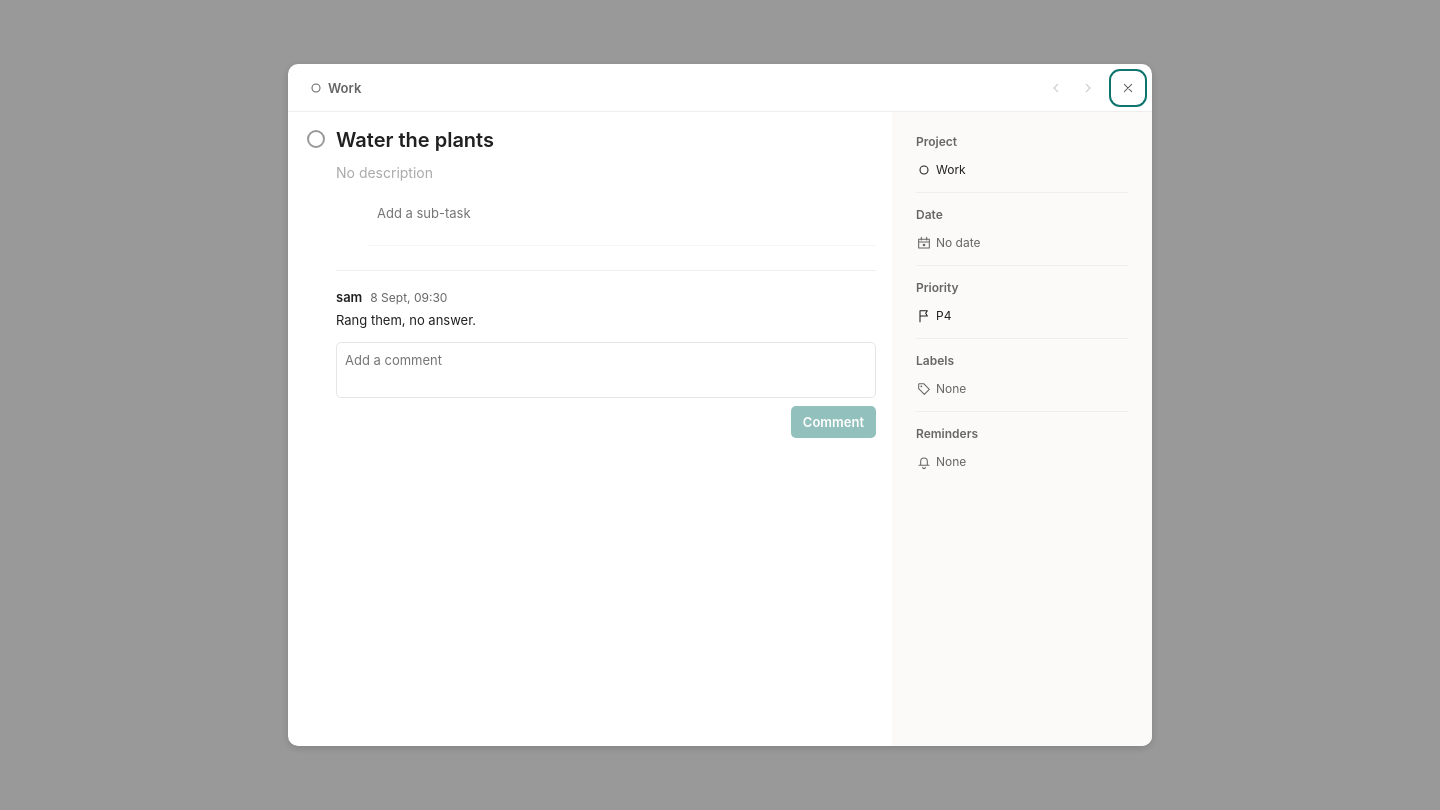
Test case: the sidebar pickers › N6 keeps a failed busy picker visible when Escape is pressed
Step 1. Click the button named "Priority: change" → (1018, 316), box [912,302,1124,330]
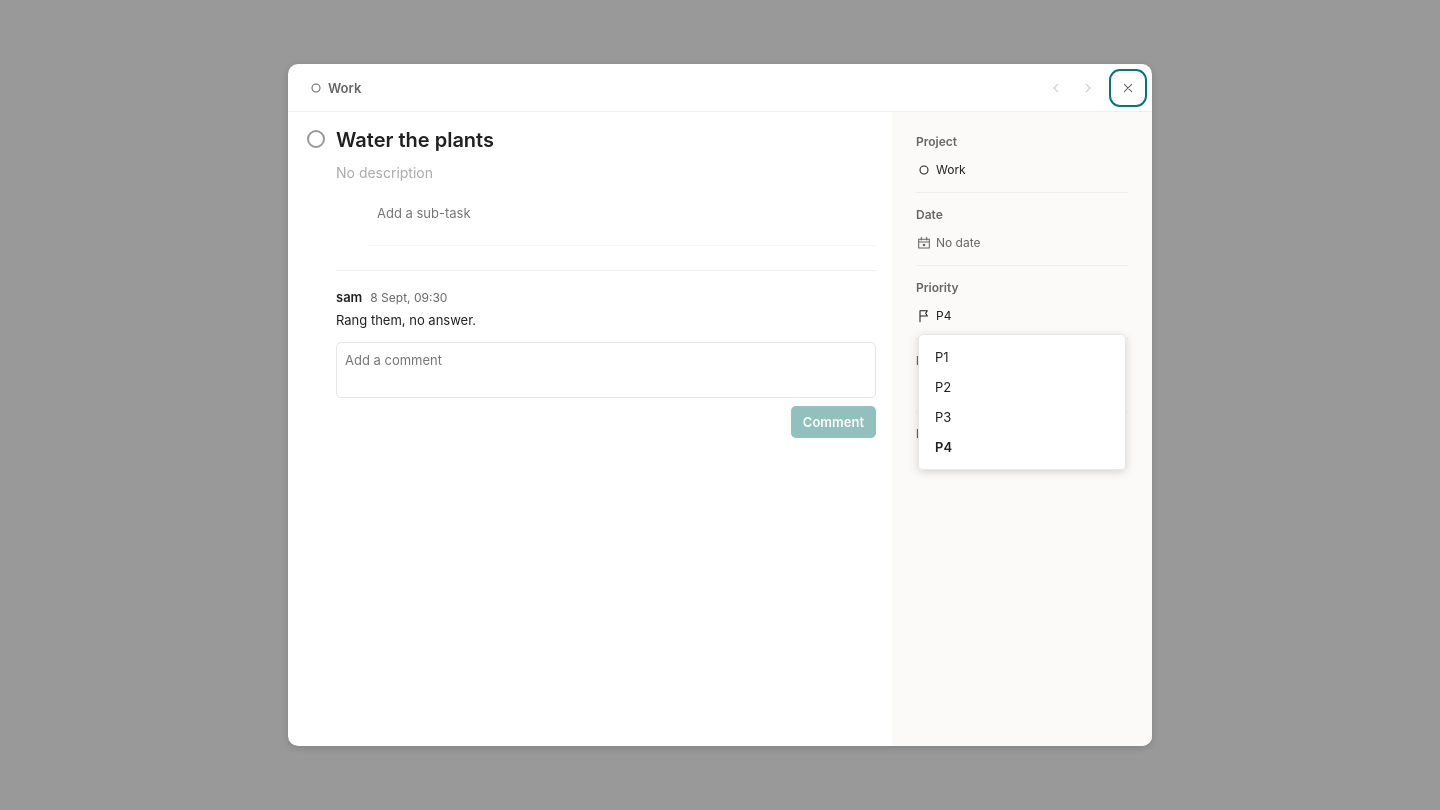
Step 2. Click the button "P1" → (1022, 357), box [927,343,1117,371]
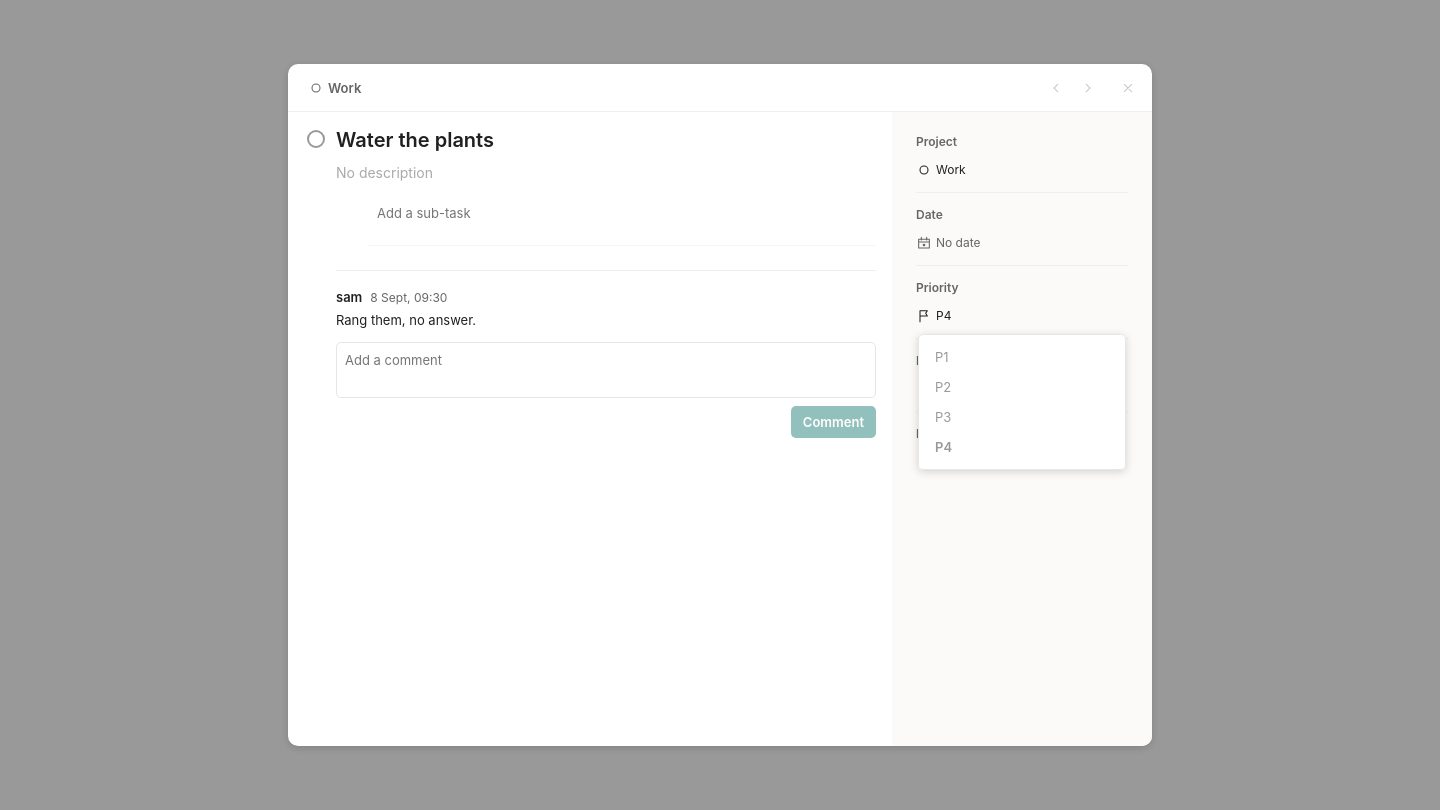
Step 3. Press Escape in the button "P1", box [927,343,1117,371]
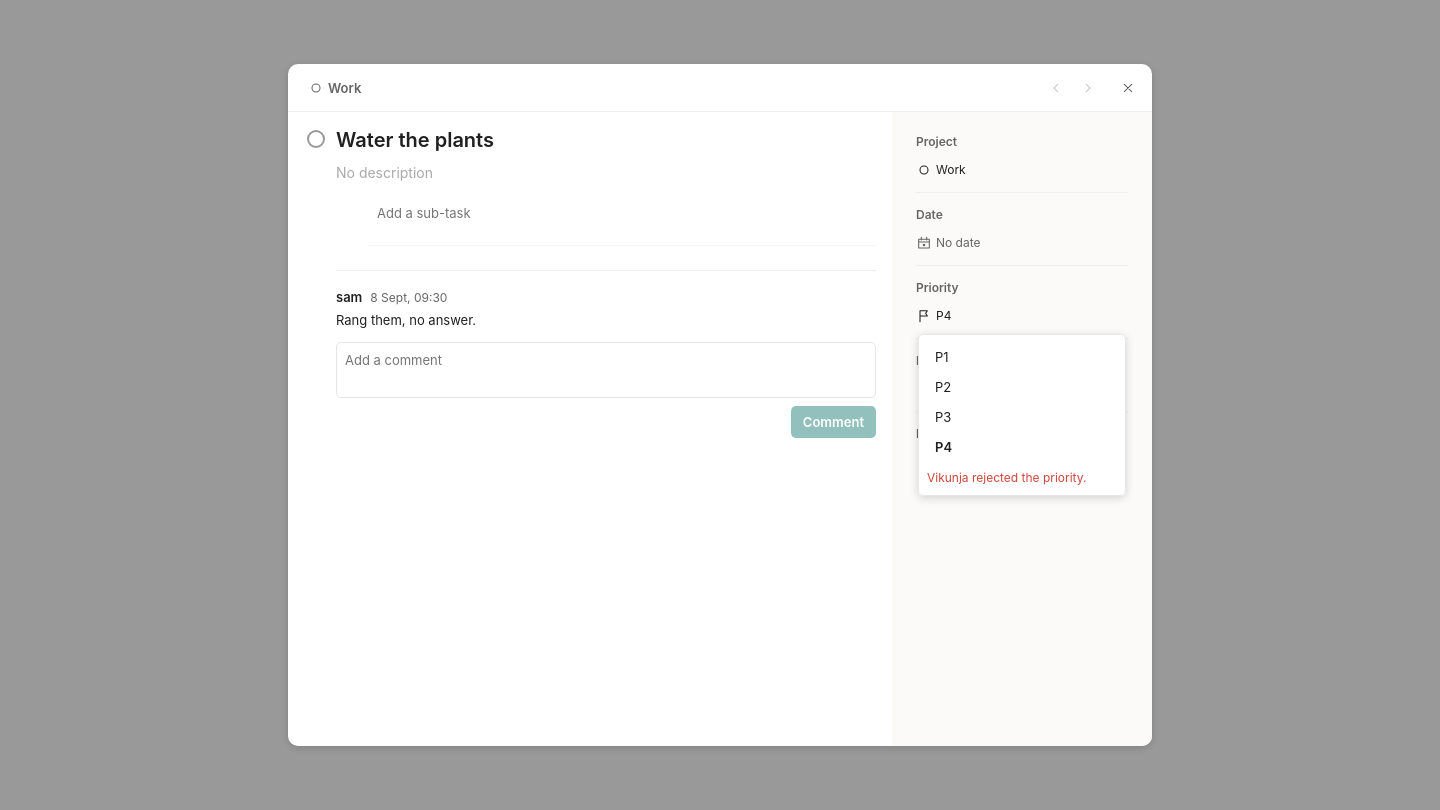
Expected: the text "Vikunja rejected the priority." is shown, [927,470,1086,485]
